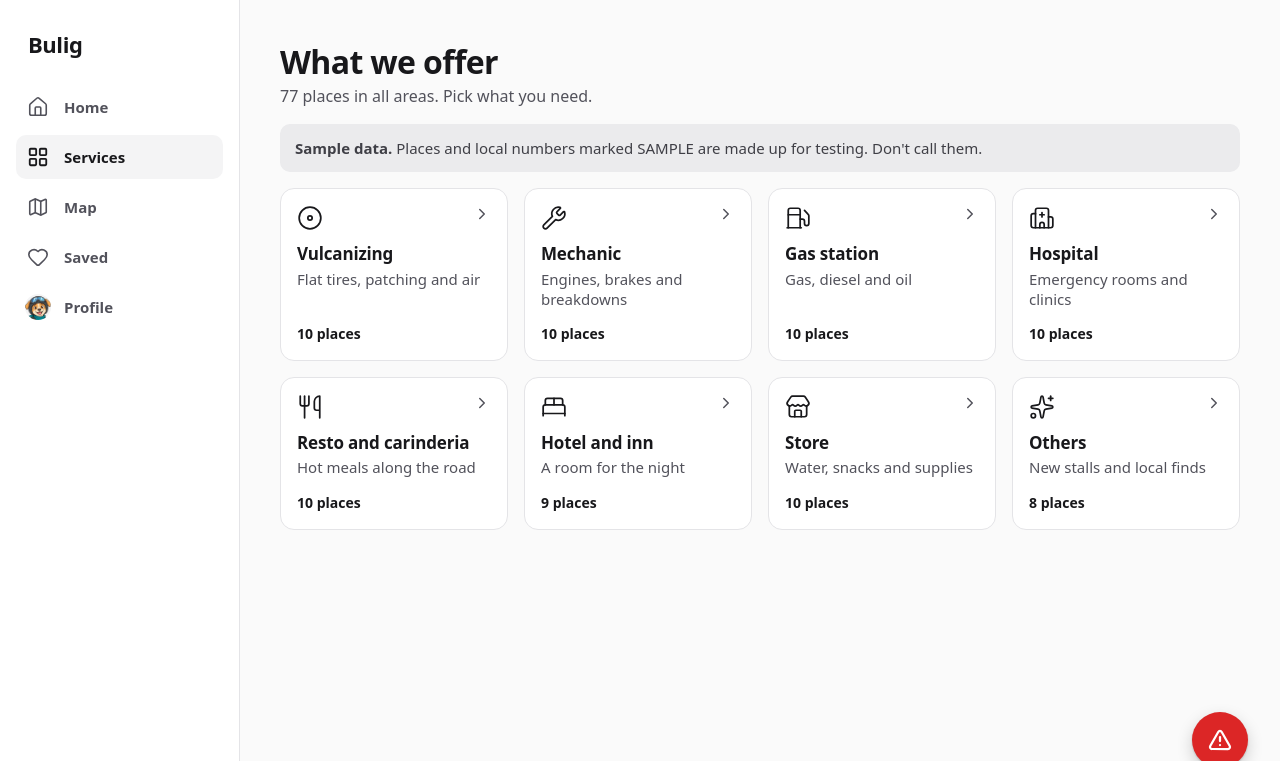
What we offer › opens Nearby results from a card: the nearest big, the rest as rows
Click the link "Vulcanizing Flat tires, patching and air 10 places": x=394, y=275 [280, 188, 508, 361]
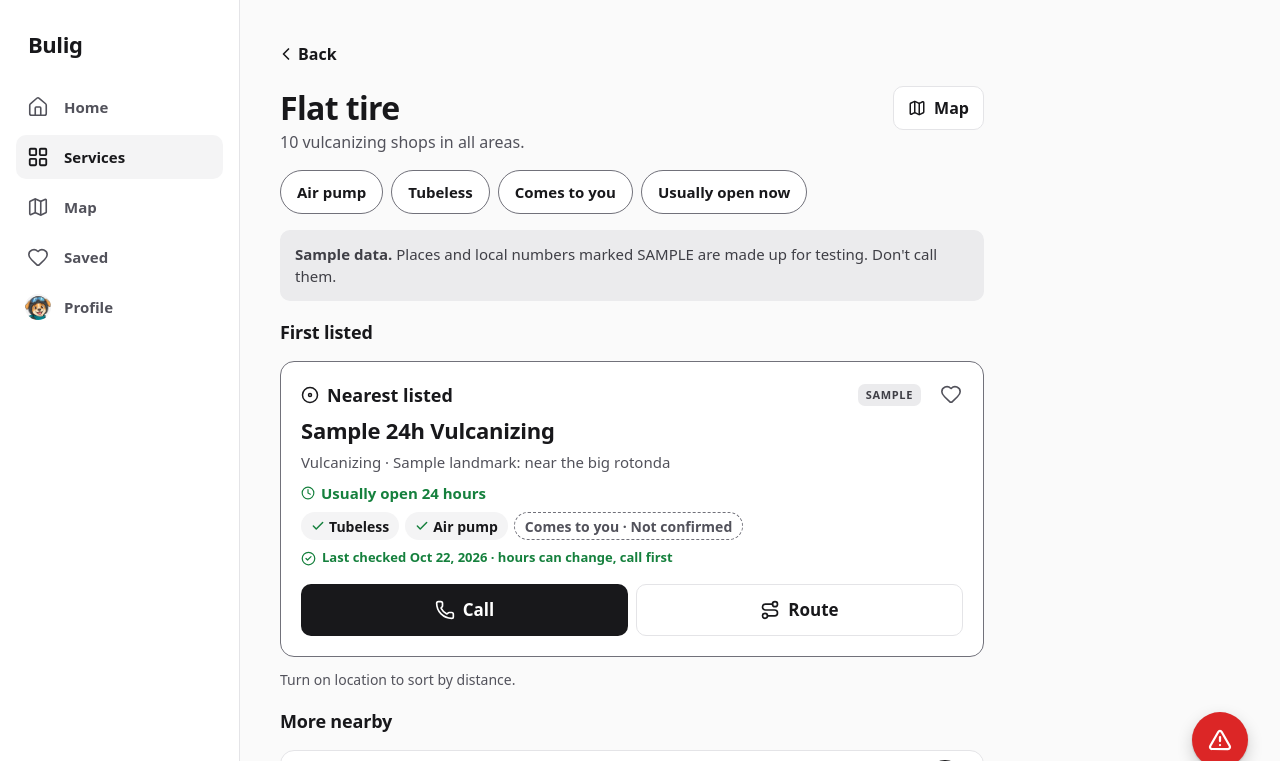
Expected: the heading "Flat tire" is shown, [280, 86, 400, 129]
Expected: the text "SAMPLE" is shown, [858, 384, 921, 406]
